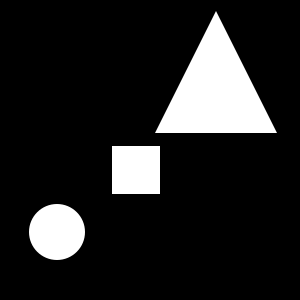circle: (112, 146, 160, 194)
rectangle: (29, 204, 85, 260)
triangle: (155, 11, 277, 133)
